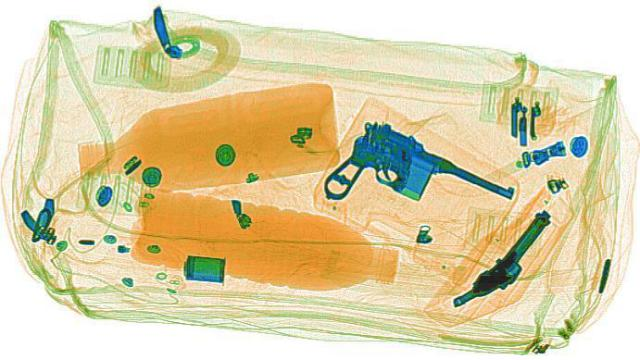Gun: (276, 115, 532, 241), (446, 204, 566, 311)
